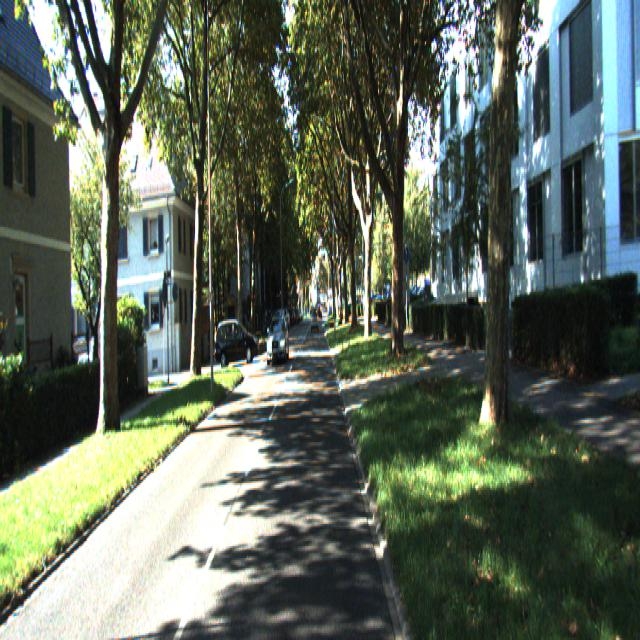Car: (214, 317, 260, 366), (266, 312, 289, 362)
